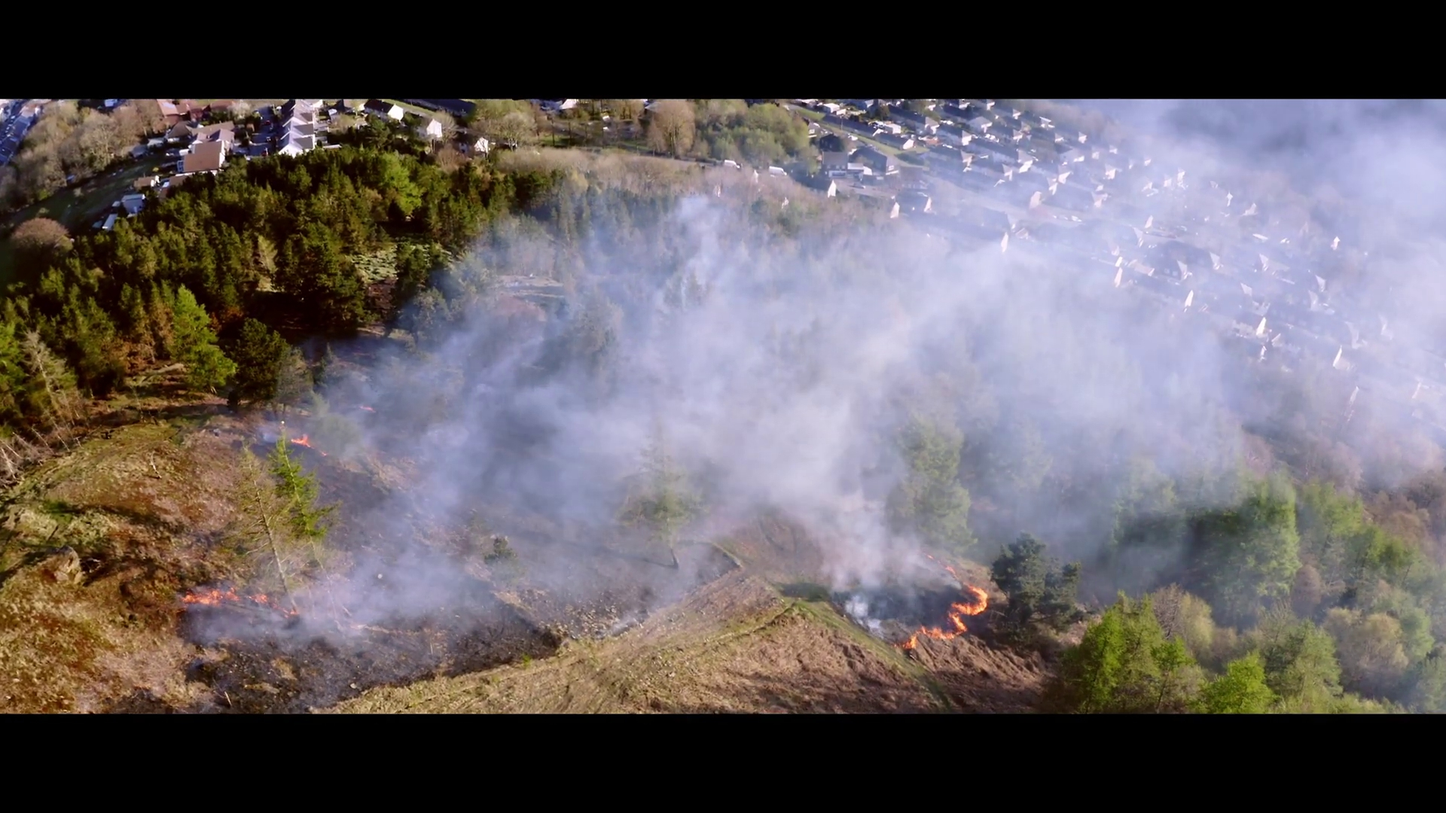forest_fire: (901, 553, 987, 649), (182, 586, 297, 614), (289, 434, 325, 455)
